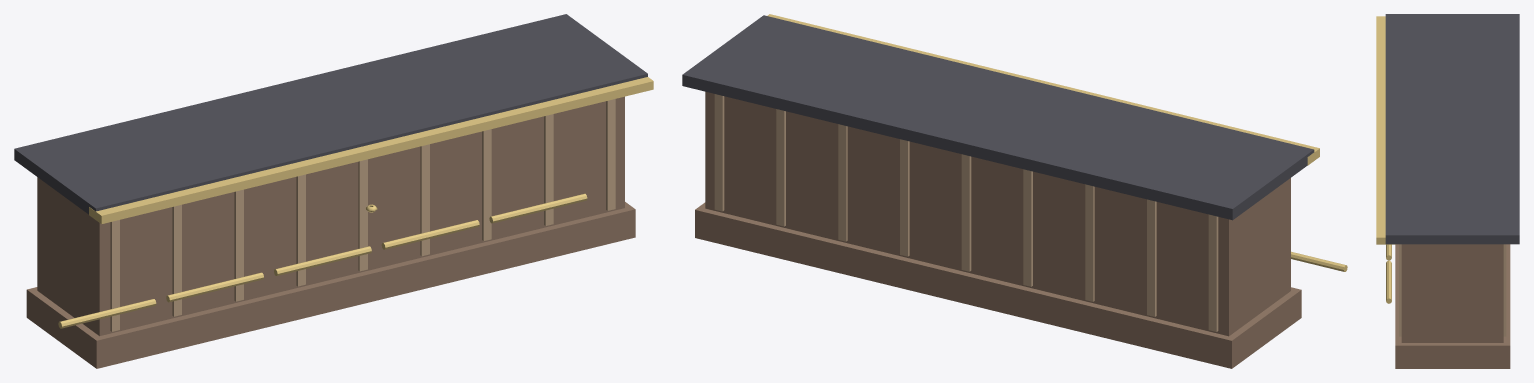
File: casino-floor-and-back-rooms-bar-counter-116853f2__27047.glb
3 renders of one model, left to right at view 1: azimuth 30°, elevation 25°; view 2: azimuth 150°, elevation 25°; view 3: azimuth 270°, elevation 25°, orthographic. The views are drawn at different scales.
Visible parts, largest first — view 1: bar-counter; view 2: bar-counter; view 3: bar-counter.
Boxes of the visible parts, bbox=[...] form: bar-counter: bbox=[14, 14, 653, 368]; bar-counter: bbox=[682, 14, 1347, 368]; bar-counter: bbox=[1376, 14, 1519, 368].
Size of the model in its own units: 4.35 by 1.18 by 1.12.
